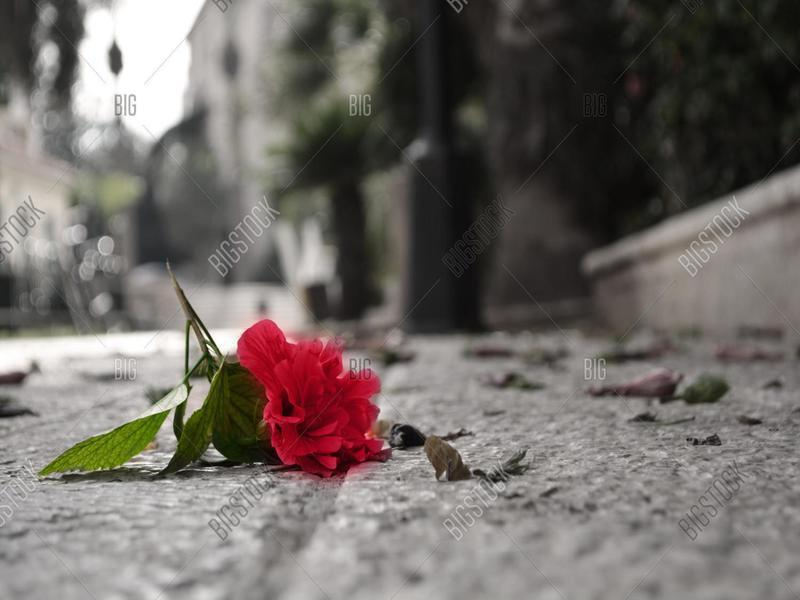flowers: (222, 303, 411, 480)
leaf: (33, 369, 190, 485), (149, 358, 230, 491)
